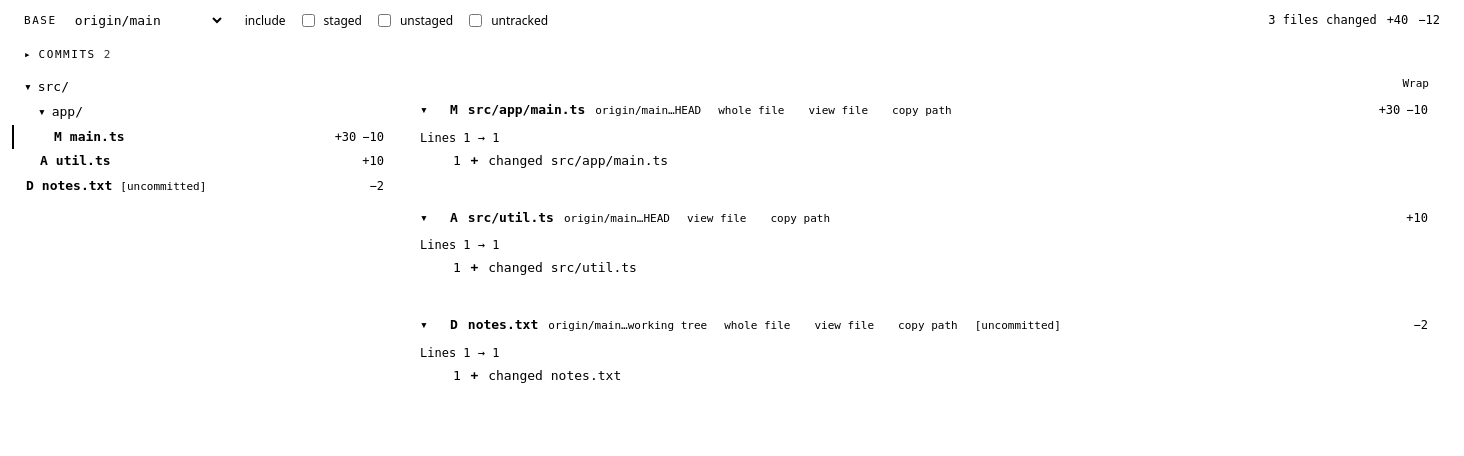
Test: commits section › is collapsed by default and expands on toggle
Click the button with test id "commits-toggle" at (67, 54), box [12,41,1452,69]
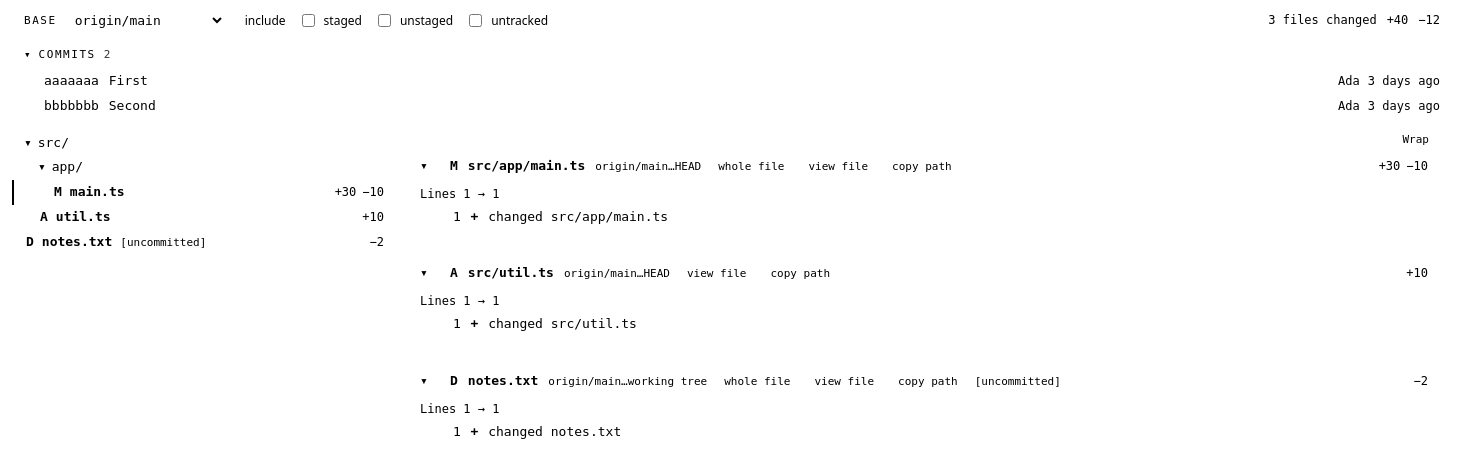
Now the number of list items with class "commit-row" is 2, box [12,69,1452,94]; [12,94,1452,119]
Now the text with class "hash" reads "aaaaaaa", box [44,73,99,88]
Now the text with class "message" reads "First", box [109,73,148,88]
